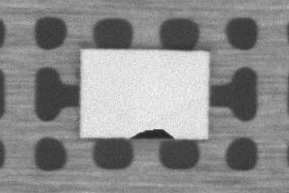DIE_BROKEN: (126, 127, 175, 139)
